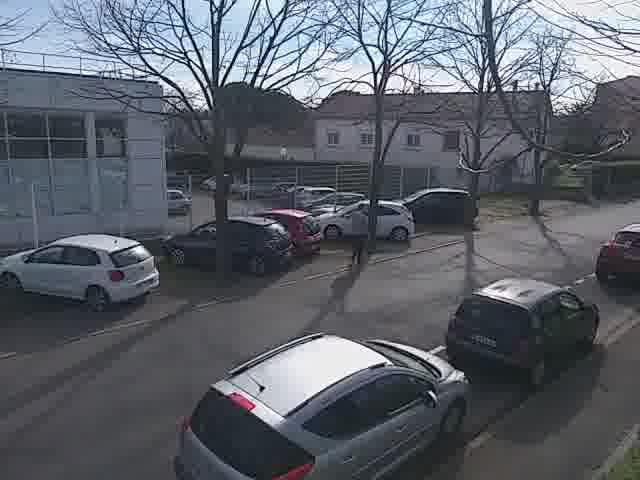persona: (344, 192, 374, 270)
